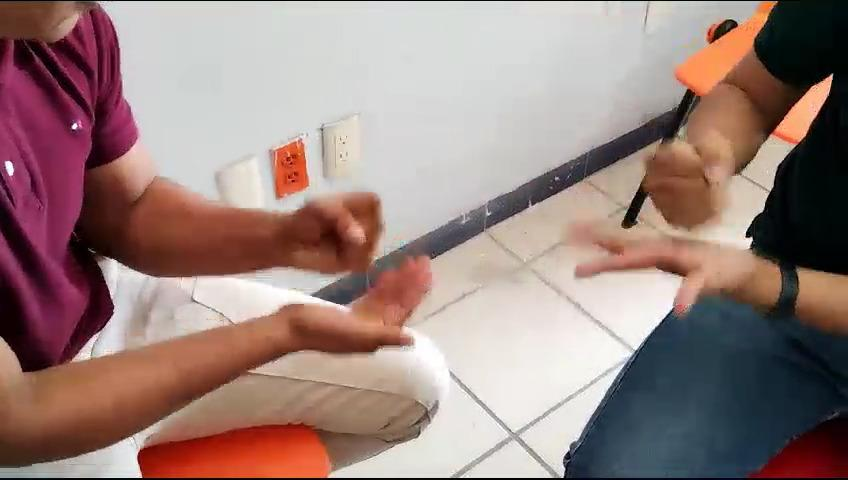Stone: (628, 132, 745, 239), (288, 179, 398, 287)
